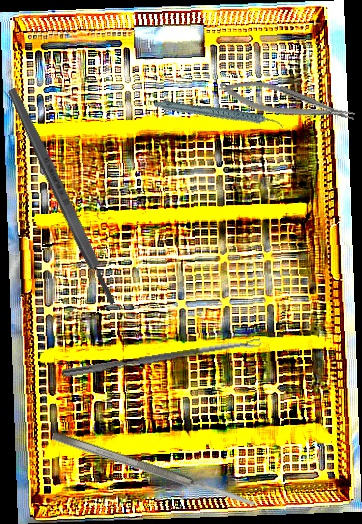Handpiece: (153, 75, 285, 155)
Needle Holder: (216, 70, 358, 135)
Scalpel Handle: (5, 86, 119, 307)
Spatula Surgical: (50, 429, 257, 511)
Surgical Spoon: (61, 338, 262, 379)
